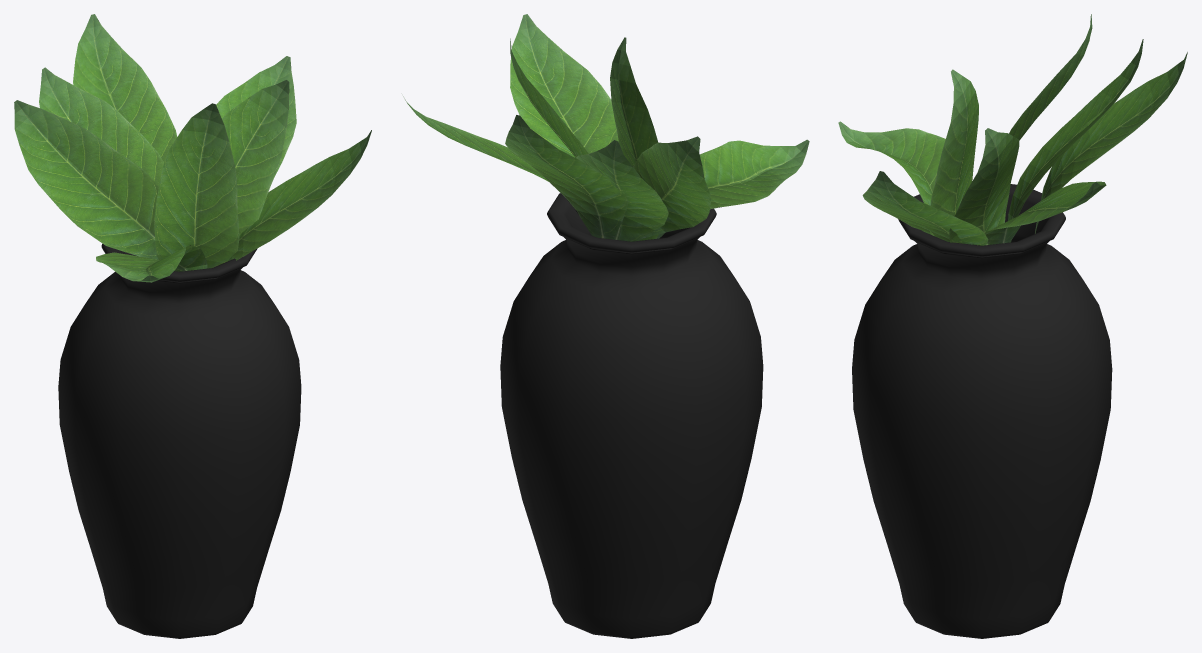
The model's file is Florero.fbx.
3 renders of one model, left to right at view 1: azimuth 30°, elevation 25°; view 2: azimuth 150°, elevation 25°; view 3: azimuth 270°, elevation 25°, orthographic. The views are drawn at different scales.
Parts seen in each view (by area): view 1: Jarron, Hojas; view 2: Jarron, Hojas; view 3: Jarron, Hojas.
Boxes of the visible parts, x1,y1,x2,y2 form: Jarron: [58, 243, 301, 638]; Hojas: [14, 14, 371, 282]; Jarron: [500, 193, 763, 638]; Hojas: [403, 14, 809, 241]; Jarron: [852, 184, 1112, 638]; Hojas: [838, 14, 1187, 245].
Bounding box in the file's own units: 112 × 202 × 114.
